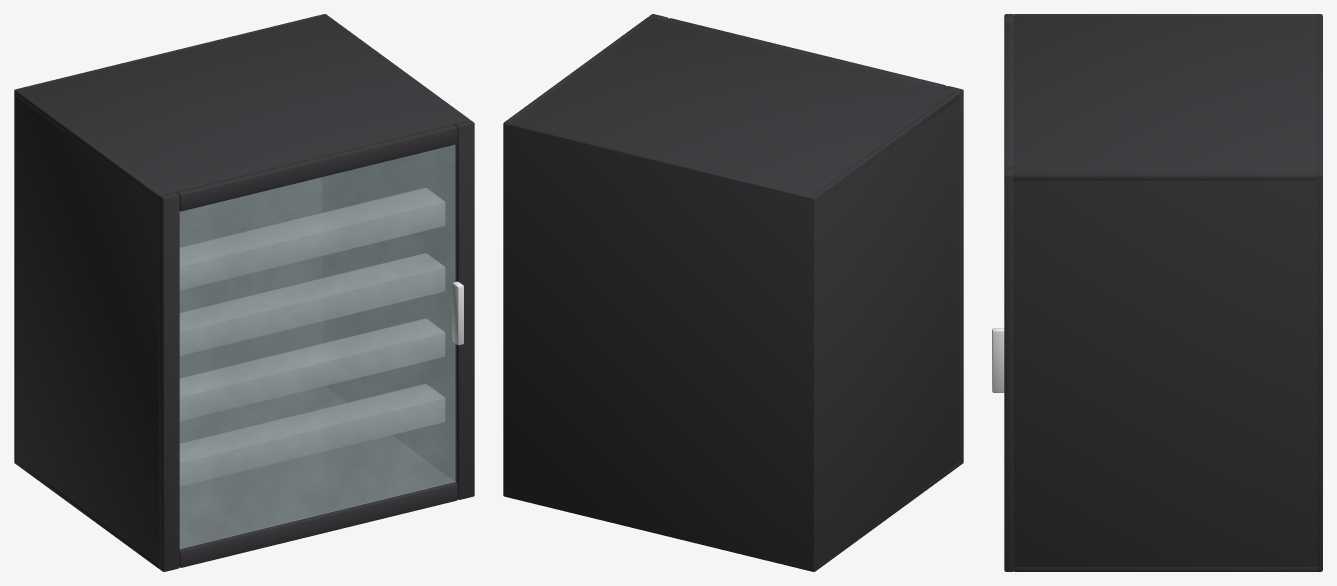
The model's file is ELE-LOG-002.glb.
The picture shows the model from 3 angles, left to right: view 1: azimuth 30°, elevation 25°; view 2: azimuth 150°, elevation 25°; view 3: azimuth 270°, elevation 25°; orthographic projection. The views are drawn at different scales.
Visible parts, largest first — view 1: ELE-LOG-002_vidro, ELE-LOG-002_lado-1, ELE-LOG-002_tb0.618, ELE-LOG-002_tb0, ELE-LOG-002_lado1, ELE-LOG-002_fundo, ELE-LOG-002_painel2, ELE-LOG-002_painel0, ELE-LOG-002_painel3, ELE-LOG-002_painel1, ELE-LOG-002_porta_v-1, ELE-LOG-002_porta_v1 (+3 smaller); view 2: ELE-LOG-002_fundo, ELE-LOG-002_lado-1, ELE-LOG-002_tb0.618, ELE-LOG-002_porta_v-1, ELE-LOG-002_porta_h0.6, ELE-LOG-002_lado1; view 3: ELE-LOG-002_lado1, ELE-LOG-002_tb0.618, ELE-LOG-002_porta_v1, ELE-LOG-002_fundo, ELE-LOG-002_tb0, ELE-LOG-002_porta_h0.6, ELE-LOG-002_puxador, ELE-LOG-002_lado-1.
Boxes of the visible parts, x1,y1,x2,y2 form: ELE-LOG-002_vidro: [179, 144, 455, 548]; ELE-LOG-002_lado-1: [16, 90, 163, 563]; ELE-LOG-002_tb0.618: [16, 16, 469, 200]; ELE-LOG-002_tb0: [16, 386, 453, 568]; ELE-LOG-002_lado1: [322, 15, 469, 479]; ELE-LOG-002_fundo: [14, 14, 326, 463]; ELE-LOG-002_painel2: [180, 253, 444, 355]; ELE-LOG-002_painel0: [180, 384, 444, 486]; ELE-LOG-002_painel3: [180, 188, 444, 290]; ELE-LOG-002_painel1: [180, 319, 444, 420]; ELE-LOG-002_porta_v-1: [159, 192, 179, 571]; ELE-LOG-002_porta_v1: [454, 120, 474, 499]; ELE-LOG-002_fundo: [503, 121, 816, 571]; ELE-LOG-002_lado-1: [812, 91, 959, 568]; ELE-LOG-002_tb0.618: [505, 18, 959, 201]; ELE-LOG-002_porta_v-1: [944, 86, 963, 465]; ELE-LOG-002_porta_h0.6: [666, 18, 946, 88]; ELE-LOG-002_lado1: [506, 17, 652, 121]; ELE-LOG-002_lado1: [1014, 172, 1317, 566]; ELE-LOG-002_tb0.618: [1013, 16, 1317, 180]; ELE-LOG-002_porta_v1: [1004, 167, 1013, 571]; ELE-LOG-002_fundo: [1317, 14, 1322, 571]; ELE-LOG-002_tb0: [1013, 567, 1317, 571]; ELE-LOG-002_porta_h0.6: [1004, 22, 1013, 168]; ELE-LOG-002_puxador: [992, 328, 1004, 392]; ELE-LOG-002_lado-1: [1014, 14, 1317, 15].
Size of the model in its own units: 0.55 by 0.63 by 0.475.
Materials: 4 (1 with a texture image).
